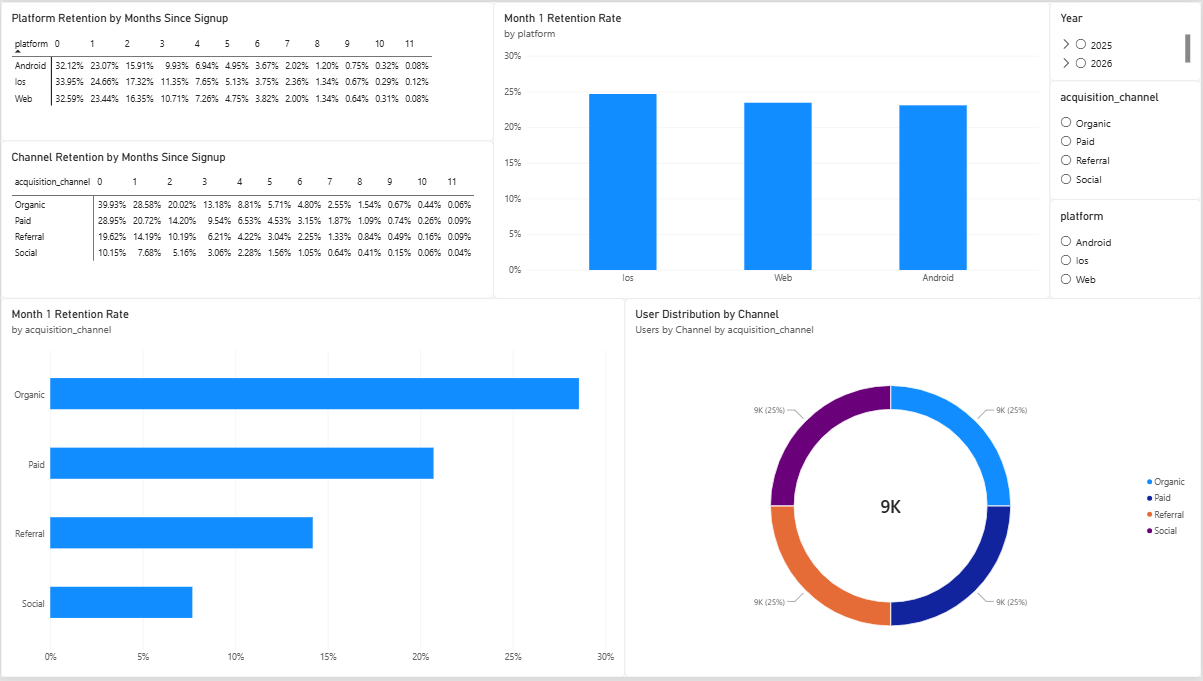

Layout of this report page (visuals, bound fields, positions):
{"tool":"powerbi","page":{"name":"Retention Segmentation","canvas":[1920,1080],"ordinal":2},"visuals":[{"type":"barChart","fields":{"Category":["user_events_clean.acquisition_channel"],"Y":["user_events_clean.Month 1 Retention Rate"]},"box":[0,474,998,606],"z":0},{"type":"columnChart","fields":{"Category":["user_events_clean.platform"],"Y":["user_events_clean.Month 1 Retention Rate"]},"box":[788,0,890,474],"z":1000},{"type":"pivotTable","title":"Channel Retention by Months Since Signup","fields":{"Columns":["user_events_clean.Valid Months Since Signup"],"Rows":["user_events_clean.acquisition_channel"],"Values":["user_events_clean.Cohort Retention Rate"]},"box":[0,222,788,252],"z":2000},{"type":"pivotTable","title":"Platform Retention by Months Since Signup","fields":{"Columns":["user_events_clean.Valid Months Since Signup"],"Rows":["user_events_clean.platform"],"Values":["user_events_clean.Cohort Retention Rate"]},"box":[0,0,788,222],"z":3000},{"type":"donutChart","title":"User Distribution by Channel","fields":{"Category":["user_events_clean.acquisition_channel"],"Y":["user_events_clean.Users by Channel"]},"box":[998,474,922,606],"z":4000},{"type":"listSlicer","fields":{"Values":["user_events_clean.cohort_month.Variation.Date Hierarchy.Year","user_events_clean.cohort_month.Variation.Date Hierarchy.Quarter","user_events_clean.cohort_month.Variation.Date Hierarchy.Month","user_events_clean.cohort_month.Variation.Date Hierarchy.Day"]},"box":[1678,0,242,126],"z":5000},{"type":"listSlicer","fields":{"Values":["user_events_clean.acquisition_channel"]},"box":[1678,126,242,190],"z":6000},{"type":"listSlicer","fields":{"Values":["user_events_clean.platform"]},"box":[1678,316,242,158],"z":7000}]}

Visuals, with their boxes in screenshot pixels (x1, y1, x2, y2), scaled from the page's 1920x1080 canvas onto the 1203x681 screenshot:
barChart - user_events_clean.acquisition_channel x user_events_clean.Month 1 Retention Rate: 0, 299, 625, 680
columnChart - user_events_clean.platform x user_events_clean.Month 1 Retention Rate: 494, 0, 1051, 299
"Channel Retention by Months Since Signup" pivotTable: 0, 140, 494, 299
"Platform Retention by Months Since Signup" pivotTable: 0, 0, 494, 140
"User Distribution by Channel" donutChart: 625, 299, 1202, 680
listSlicer - user_events_clean.cohort_month.Variation.Date Hierarchy.Year x user_events_clean.cohort_month.Variation.Date Hierarchy.Quarter: 1051, 0, 1202, 79
listSlicer - user_events_clean.acquisition_channel: 1051, 79, 1202, 199
listSlicer - user_events_clean.platform: 1051, 199, 1202, 299
